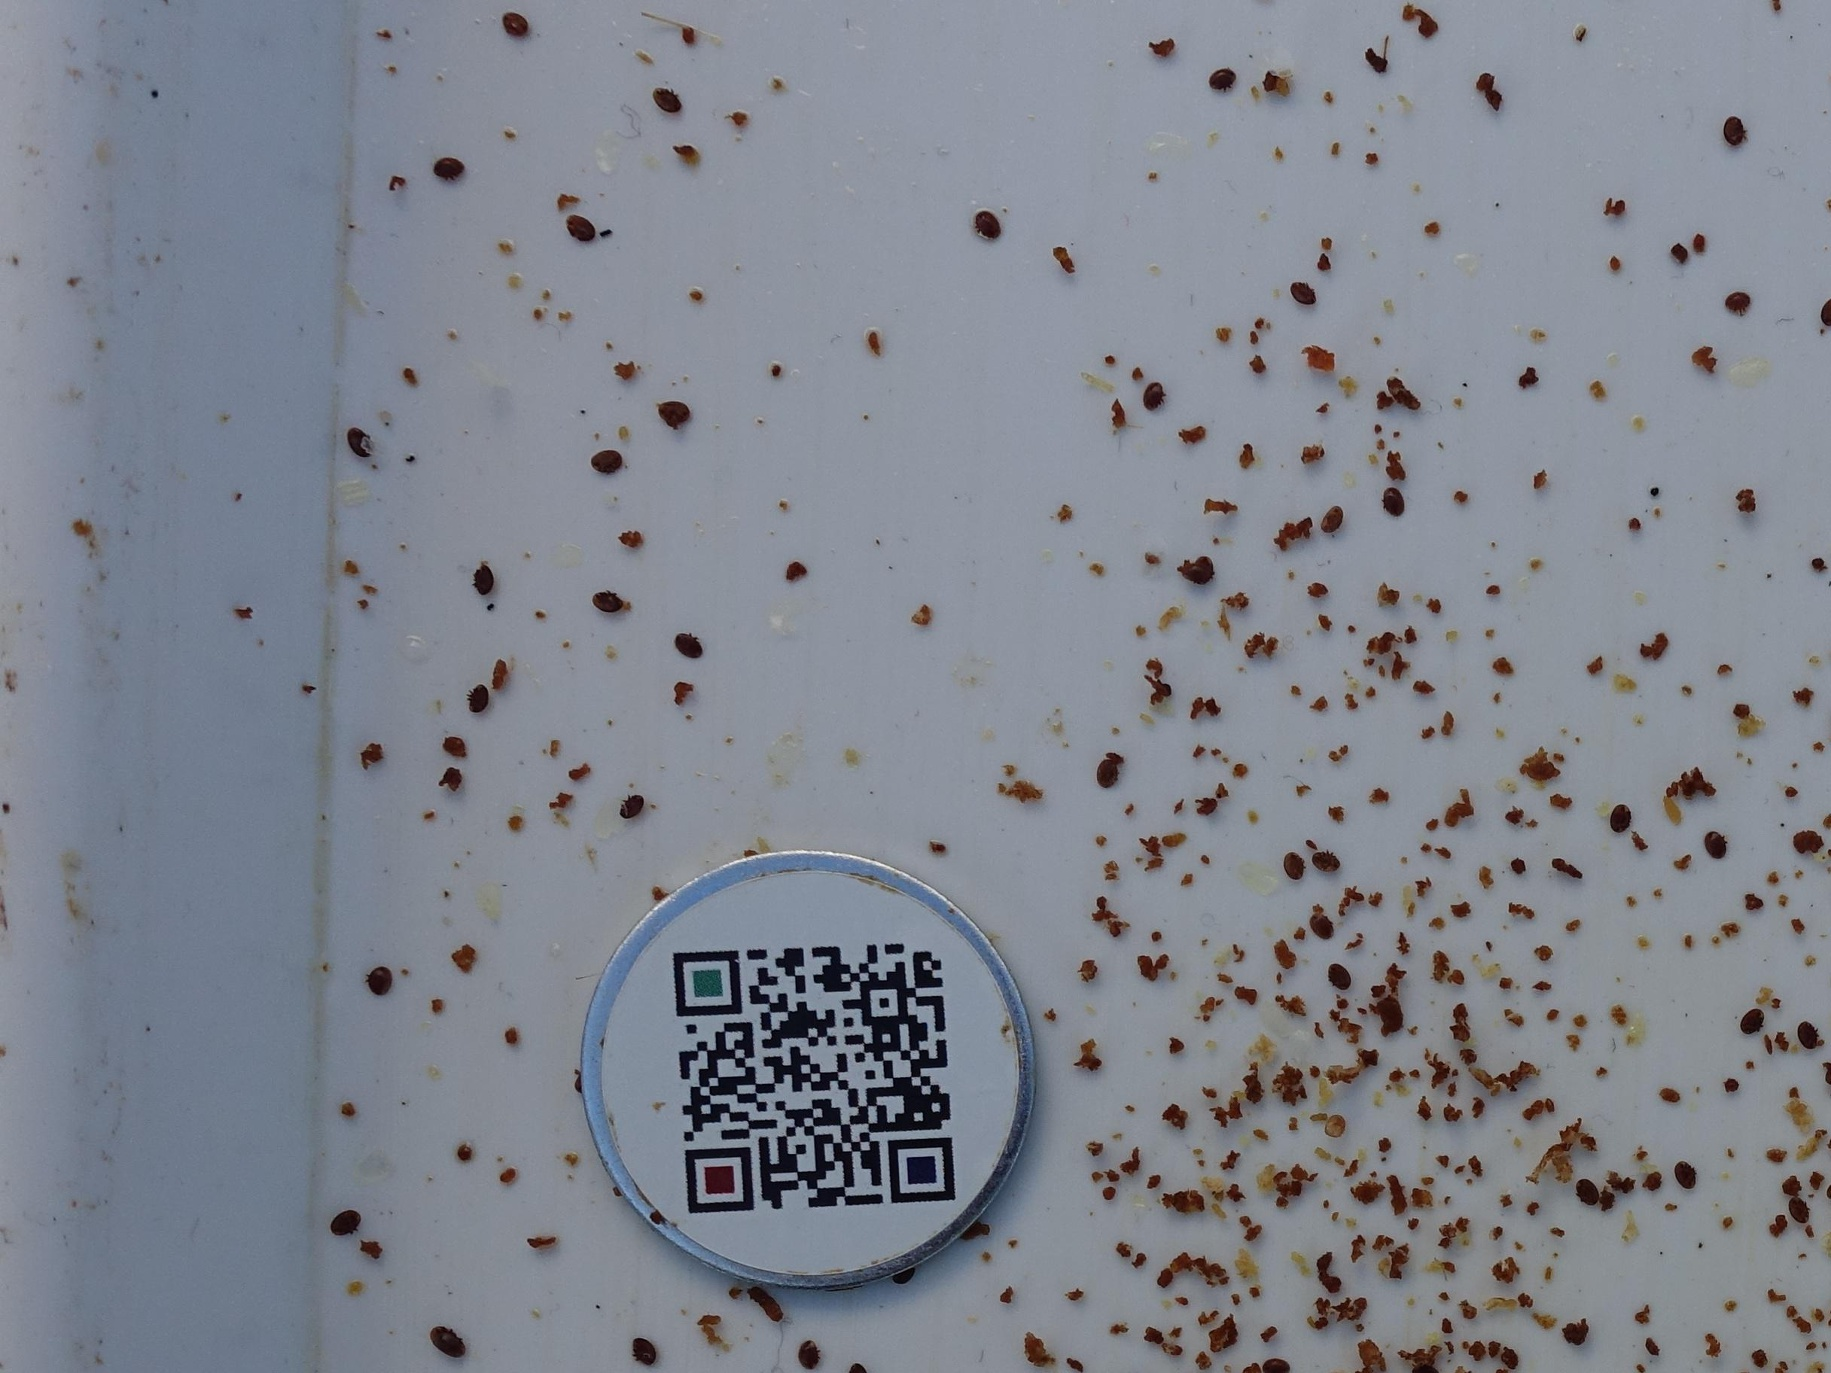Varroa: (339, 423, 376, 462), (663, 394, 692, 424), (469, 570, 497, 599), (1308, 907, 1336, 935), (1280, 849, 1306, 877), (1783, 1196, 1809, 1222), (569, 211, 594, 237), (1326, 966, 1351, 992), (594, 443, 619, 469), (1212, 71, 1236, 97), (466, 684, 489, 708), (1574, 1178, 1597, 1203), (977, 211, 1001, 235), (1716, 117, 1739, 141), (1326, 503, 1349, 528), (1289, 283, 1312, 306), (505, 12, 528, 35), (652, 91, 675, 114), (595, 588, 619, 612), (1799, 1025, 1822, 1048), (369, 966, 391, 991), (679, 635, 701, 658), (1608, 806, 1629, 828), (1143, 384, 1165, 405), (437, 1325, 458, 1347), (441, 156, 464, 176), (1383, 490, 1403, 513), (636, 1341, 657, 1361), (1678, 1164, 1698, 1186), (1703, 831, 1723, 852), (1734, 1005, 1755, 1027), (1316, 847, 1336, 868), (1730, 294, 1750, 314), (1192, 560, 1212, 580), (337, 1209, 358, 1229), (627, 796, 647, 816), (796, 1341, 815, 1361), (1096, 759, 1114, 777)
